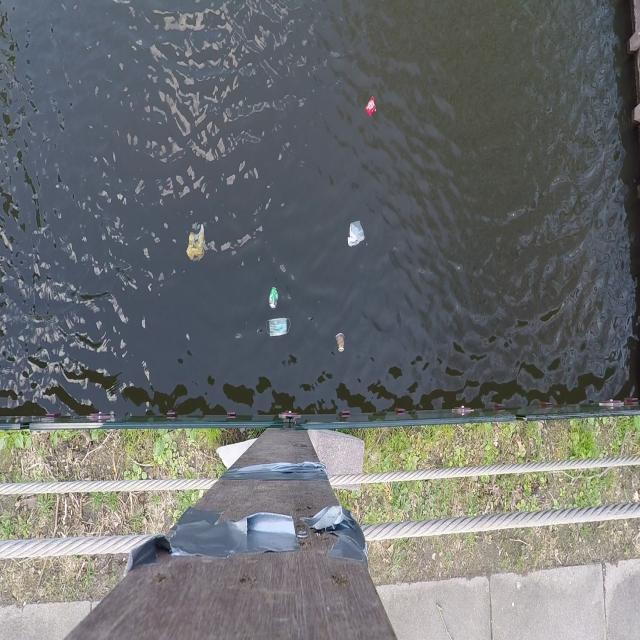Non plastique: (260, 315, 293, 340), (332, 325, 348, 358), (265, 286, 282, 310)
Sac plastique: (180, 219, 210, 274), (344, 214, 368, 253)
